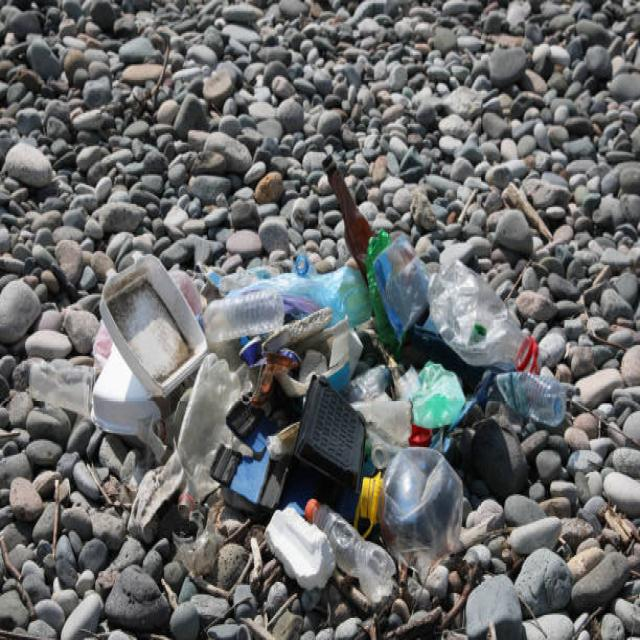plastic: (226, 339, 505, 530)
